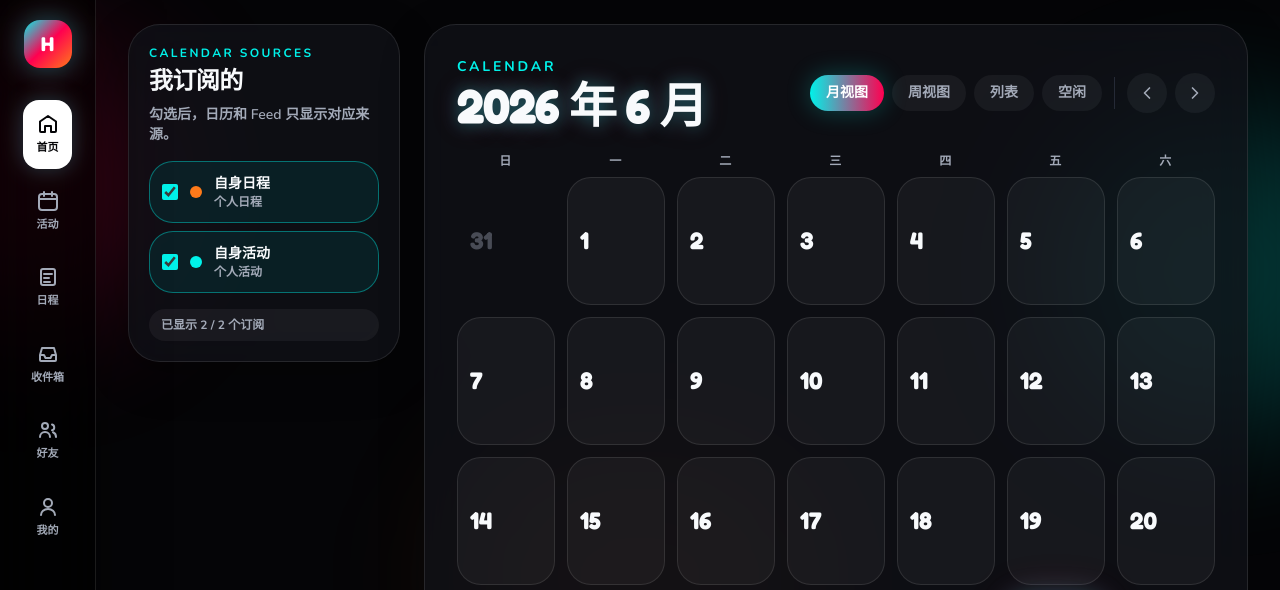
Test: App › replaces coarse calendar filters with calendar view switching
This screenshot has width=1280, height=590.
Click the button "周视图" at (929, 93), box [892,75,966,111]
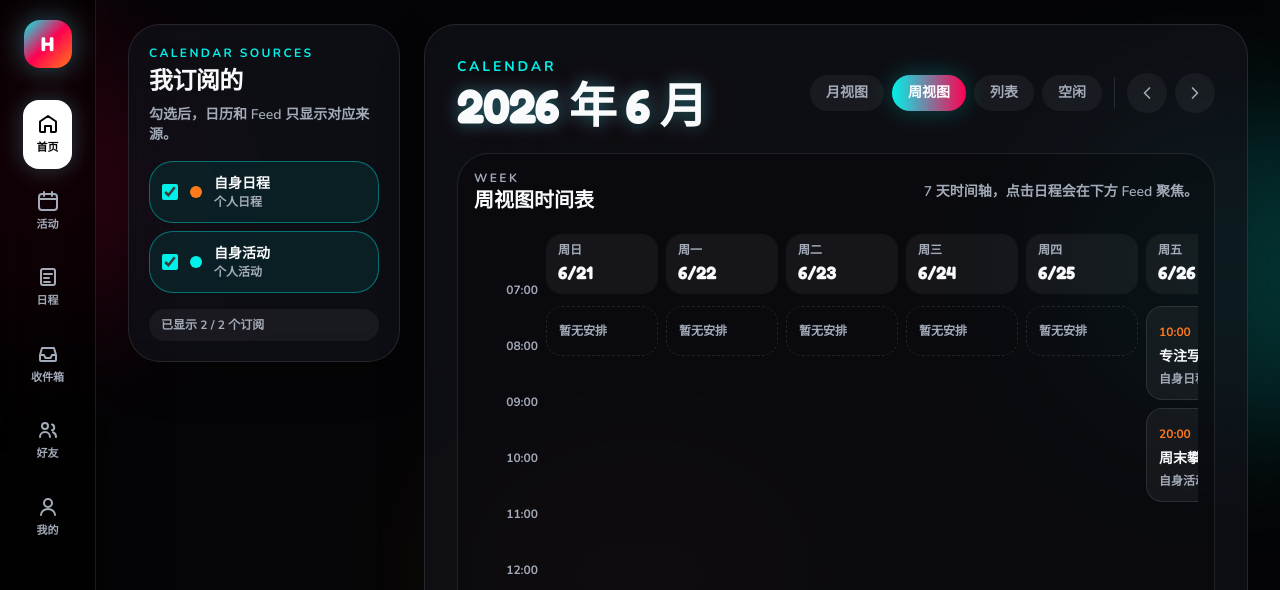
Expected: the text "自身活动" below "个人日程" is shown, [214,244,270,263]
Expected: the heading "周视图时间表" is shown, [474,186,594,214]
Expected: the text "07:00" is shown, [506,282,538,298]
Click the button "列表" at (1004, 93), box [974,75,1034,111]
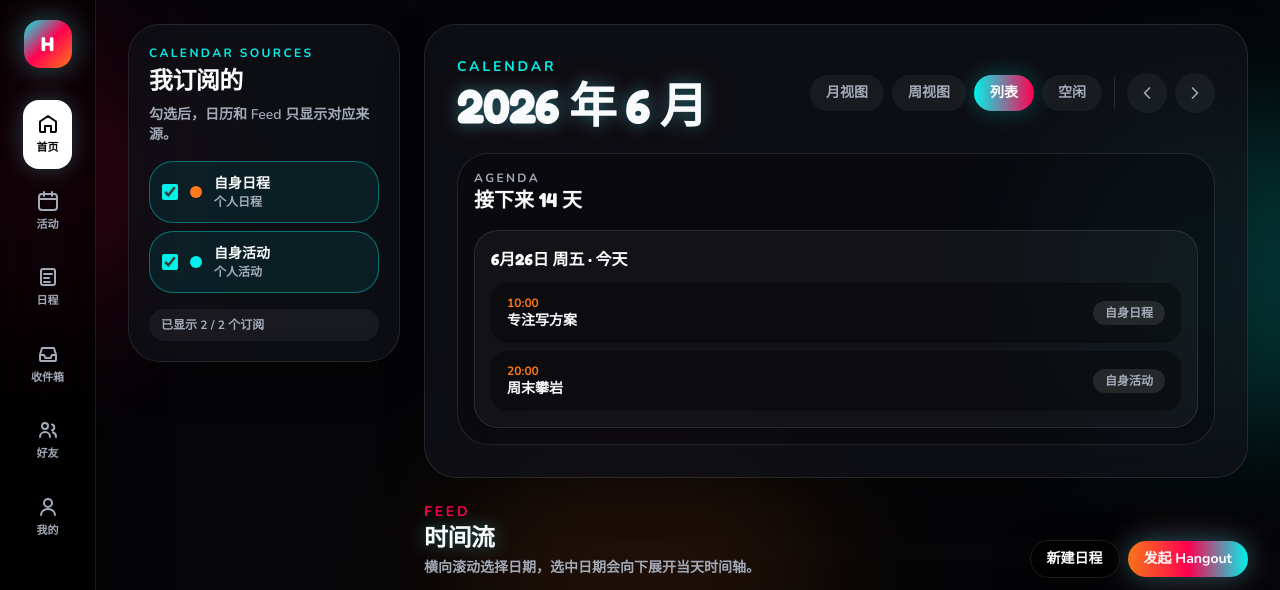
Expected: the text "周末攀岩" is shown, [507,379,563,399]
Expected: the heading "接下来 14 天" is shown, [474,188,582,212]
Click the button "空闲" at (1072, 93), box [1042,75,1102,111]
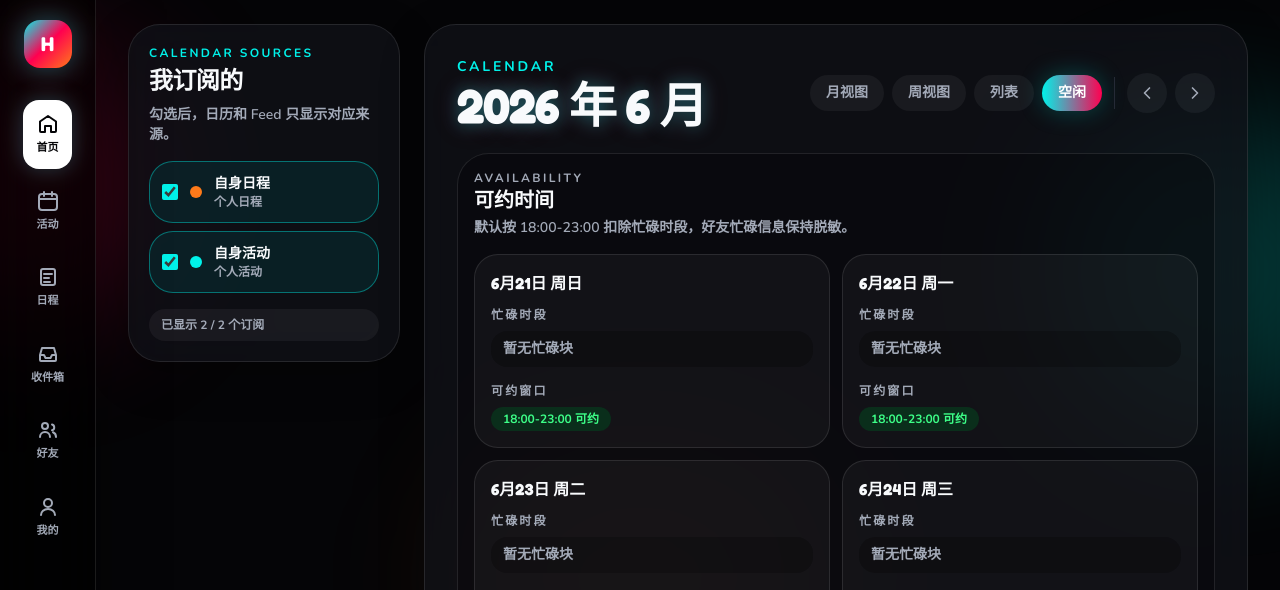
Expected: the heading "可约时间" is shown, [474,188,554,212]
Expected: the 1st text "忙碌时段" is shown, [491,307,548,323]
